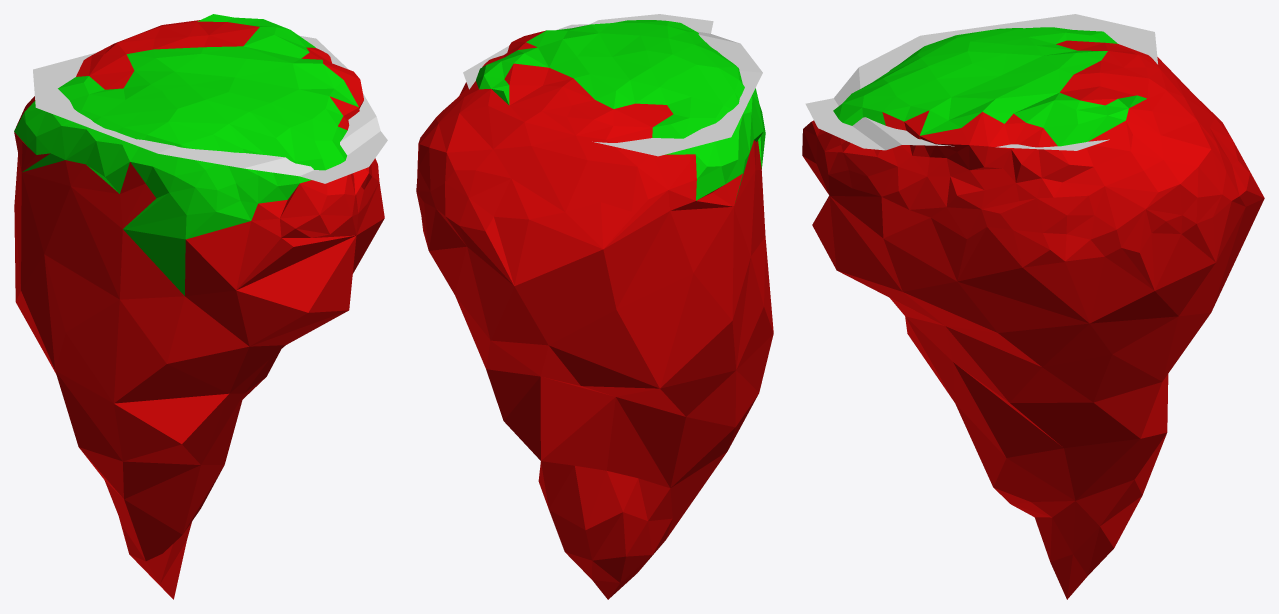
File: Isle_Controllable_H5x5_2_Collider.fbx
3 views of the same model, side by side, from view 1: azimuth 30°, elevation 25°; view 2: azimuth 150°, elevation 25°; view 3: azimuth 270°, elevation 25° (orthographic). The views are drawn at different scales.
Parts seen in each view (by area): view 1: Isle_Controllable_H5x5_2_Collider; view 2: Isle_Controllable_H5x5_2_Collider; view 3: Isle_Controllable_H5x5_2_Collider.
Boxes of the visible parts, <box> form: Isle_Controllable_H5x5_2_Collider: <box>14,14,387,599</box>; Isle_Controllable_H5x5_2_Collider: <box>416,14,773,599</box>; Isle_Controllable_H5x5_2_Collider: <box>802,14,1264,599</box>.
Size of the model in its own units: 424 by 695 by 534.
